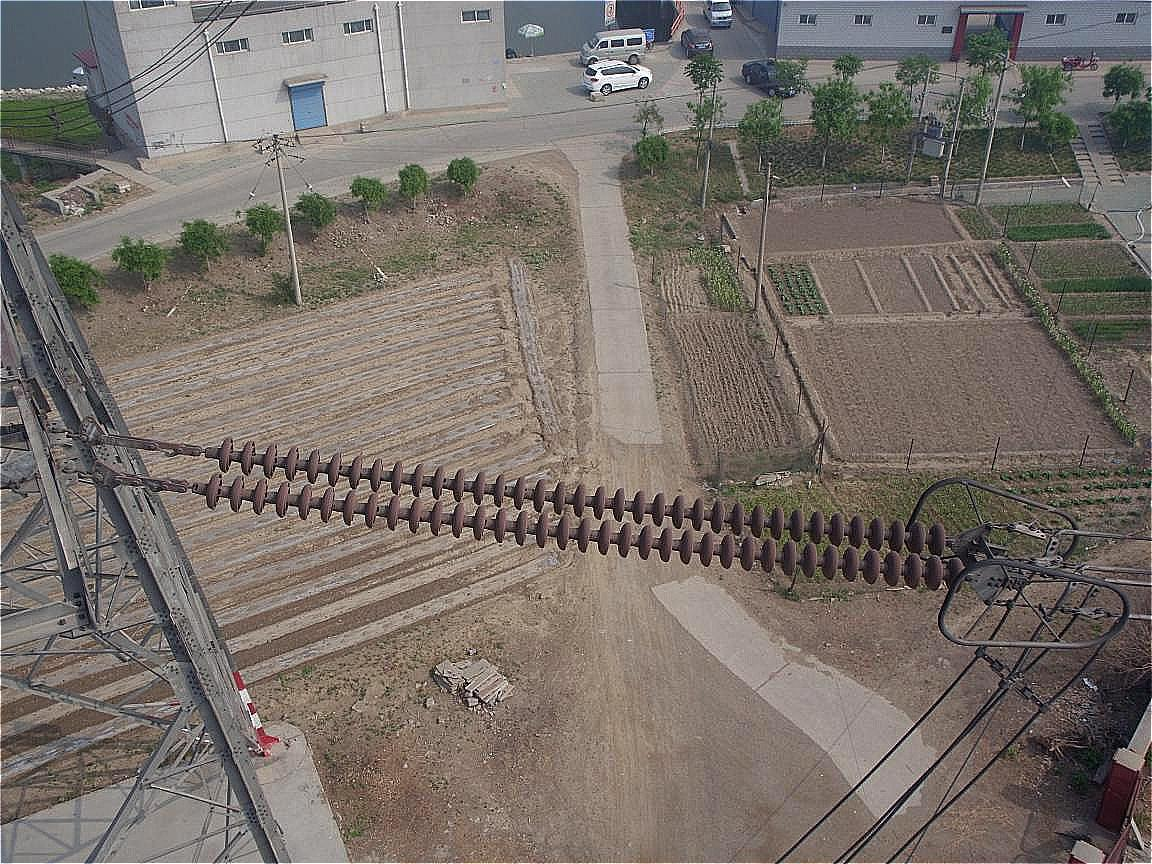insultor1: (209, 435, 966, 591)
